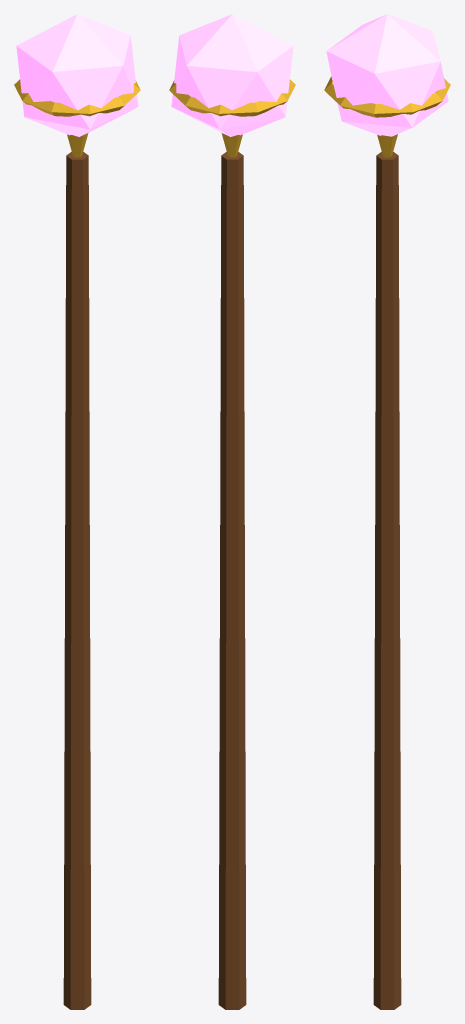
Rendered from magic_staff.fbx.
3 renders of one model, left to right at view 1: azimuth 30°, elevation 25°; view 2: azimuth 150°, elevation 25°; view 3: azimuth 330°, elevation 25°, orthographic.
Parts seen in each view (by area): view 1: magic_staff; view 2: magic_staff; view 3: magic_staff.
Boxes of the visible parts, bbox=[...] form: magic_staff: bbox=[14, 14, 140, 1009]; magic_staff: bbox=[169, 14, 295, 1009]; magic_staff: bbox=[324, 14, 450, 1009].
Size of the model in its own units: 0.204 by 1.75 by 0.194.
